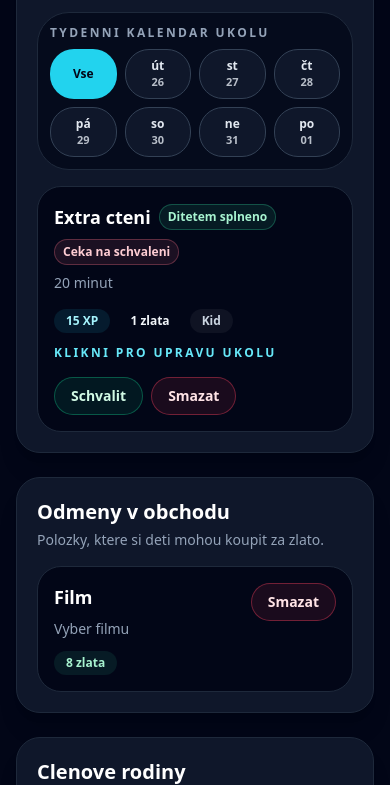
Test: schvali mimoradny ukol
The image size is (390, 785).
(page scrolled)
Expected: the heading "Extra cteni" is shown, [54,203,151,231]
Click the button "Schvalit" at x=99, y=396, box [54,377,143,415]
(page scrolled)
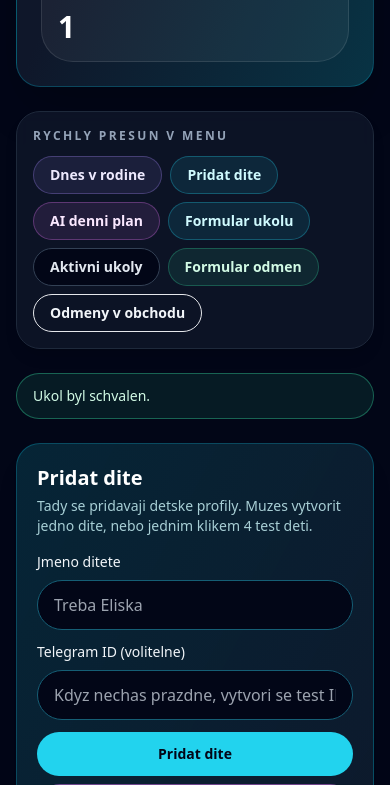
Expected: the text "Ukol byl schvalen." is shown, [16,373,374,419]
